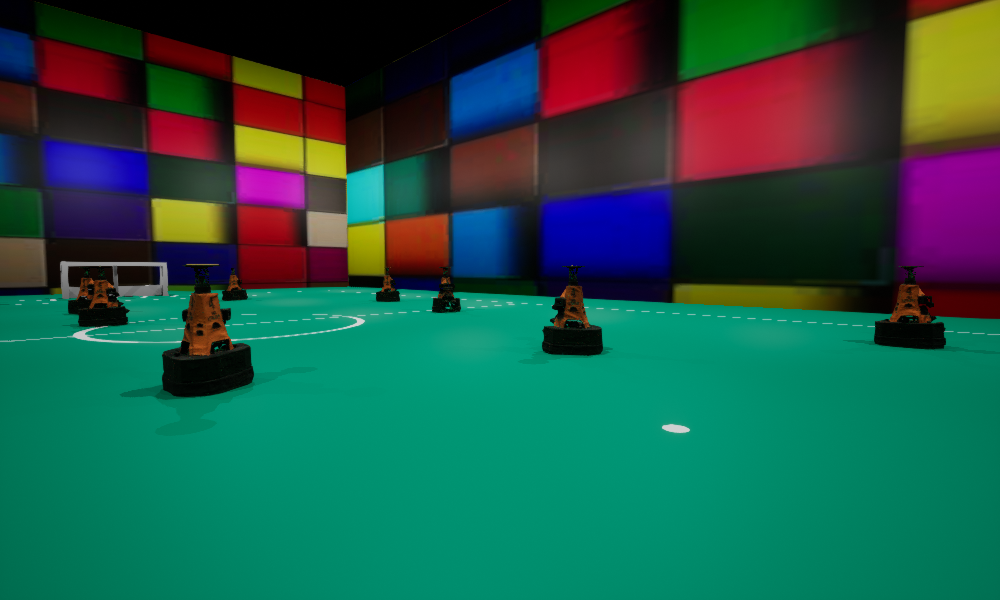0 orange robot TechUnited: (162, 264, 253, 396), (874, 266, 945, 348), (542, 265, 602, 355), (78, 266, 129, 326), (68, 267, 103, 313), (432, 267, 460, 312), (222, 268, 247, 300), (376, 267, 399, 301)
